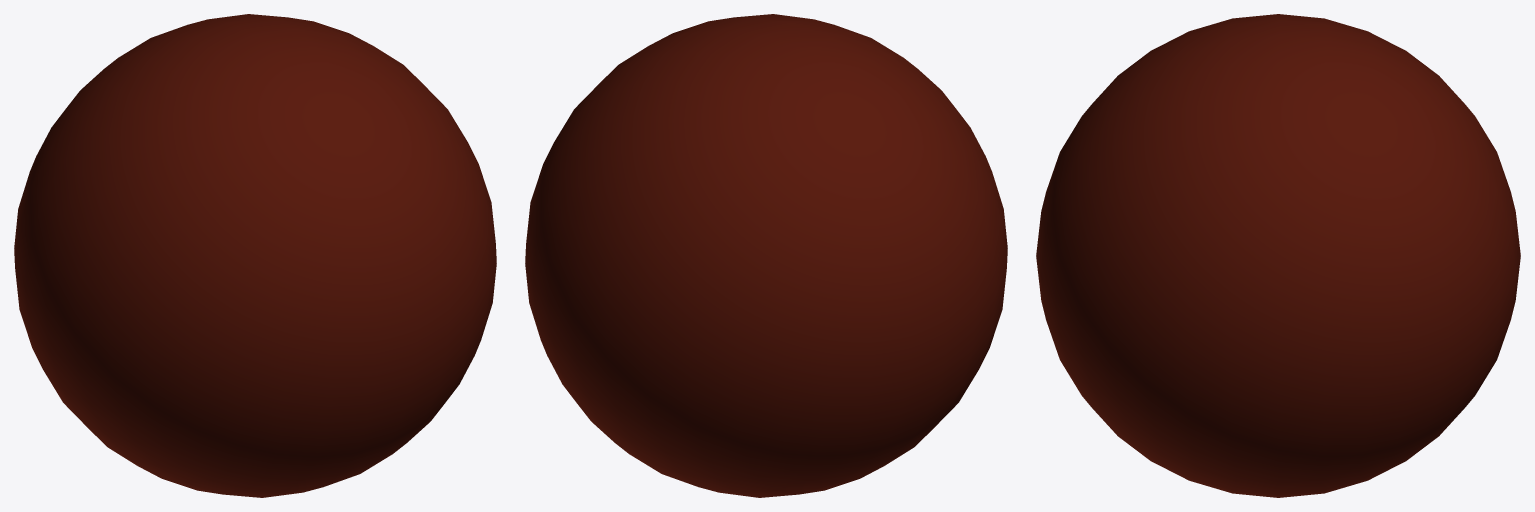
Rendered from Trex_Ball.FBX.
3 views of the same model, side by side, from view 1: azimuth 30°, elevation 25°; view 2: azimuth 150°, elevation 25°; view 3: azimuth 270°, elevation 25° (orthographic).
Visible parts, largest first — view 1: TREX_Female_RollyBall; view 2: TREX_Female_RollyBall; view 3: TREX_Female_RollyBall.
Boxes of the visible parts, left/top/right/bottom form: TREX_Female_RollyBall: left=14, top=14, right=496, bottom=497; TREX_Female_RollyBall: left=525, top=14, right=1007, bottom=497; TREX_Female_RollyBall: left=1036, top=14, right=1520, bottom=497.
Size of the model in its own units: 105 by 105 by 105.
